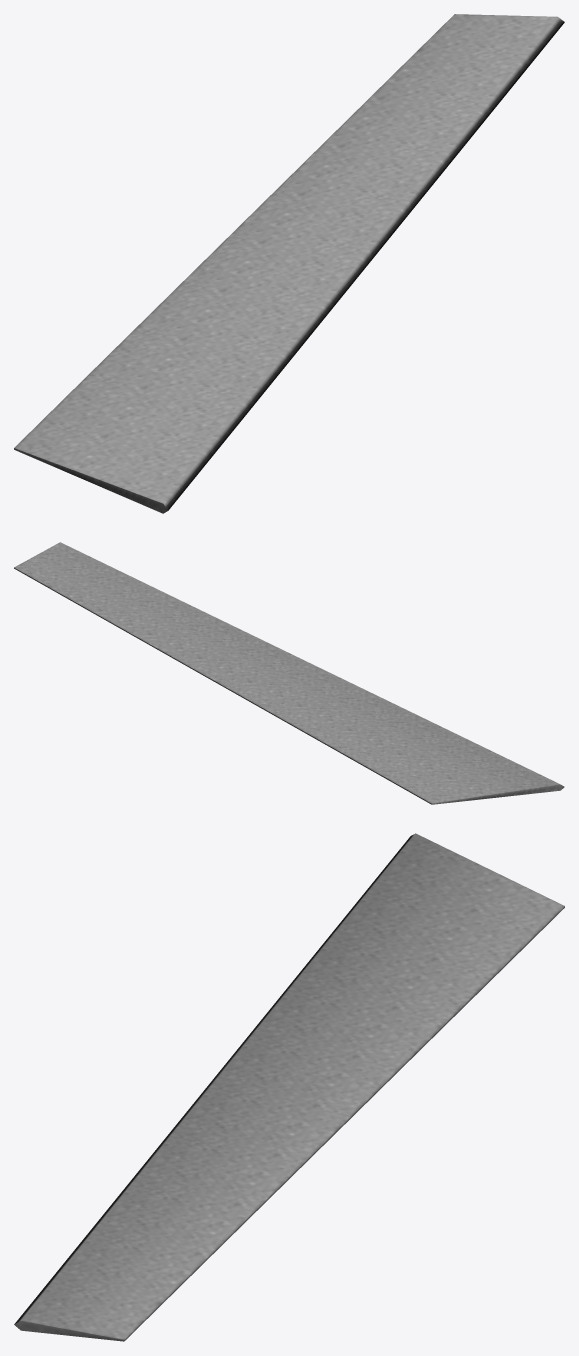
Rendered from flap_right.dae.
The picture shows the model from 3 angles, top to bottom: view 1: azimuth 90°, elevation 25°; view 2: azimuth 150°, elevation 25°; view 3: azimuth 270°, elevation 25°; orthographic projection. The views are drawn at different scales.
Visible parts, largest first — view 1: Flap_Right; view 2: Flap_Right; view 3: Flap_Right.
Boxes of the visible parts, box(x1,y1,x2,y2) form: Flap_Right: box(14, 14, 564, 513); Flap_Right: box(14, 542, 564, 804); Flap_Right: box(14, 833, 564, 1341).
Bounding box in the file's own units: 0.6154 × 0.2865 × 0.00583.
Materials: 1 (1 with a texture image).
